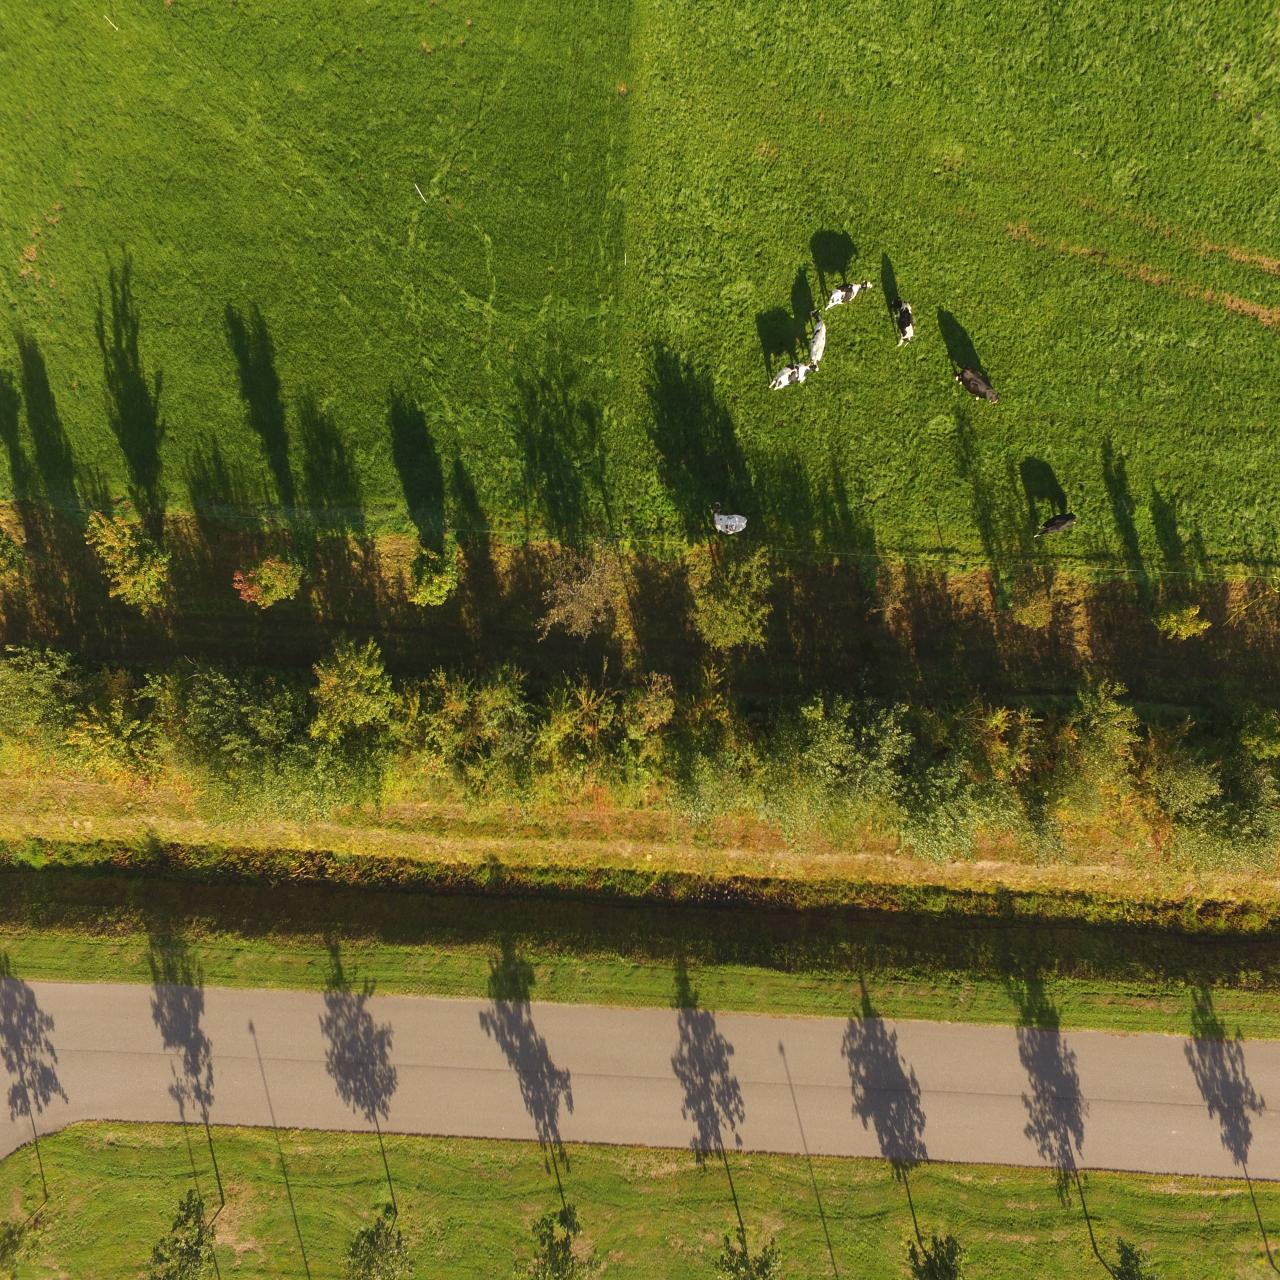cow: (952, 355, 998, 414), (822, 272, 876, 312), (805, 307, 836, 374), (1029, 505, 1080, 545), (768, 358, 818, 393), (709, 498, 749, 538), (888, 293, 918, 346)
